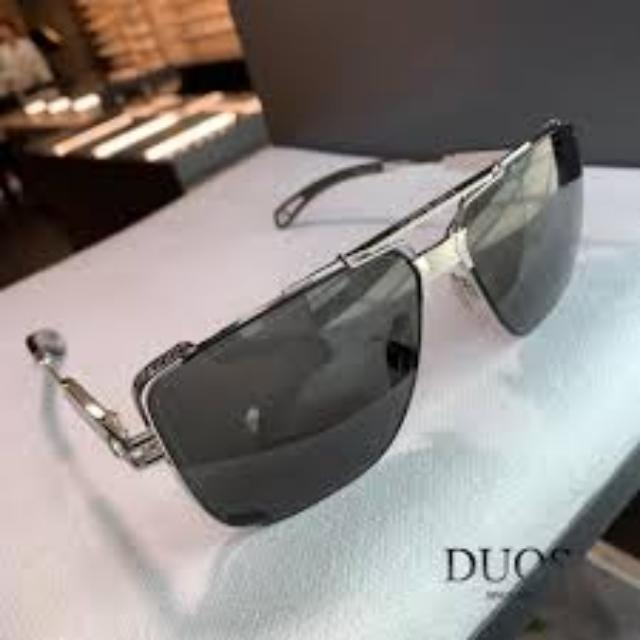sunglasses: (24, 118, 586, 524)
